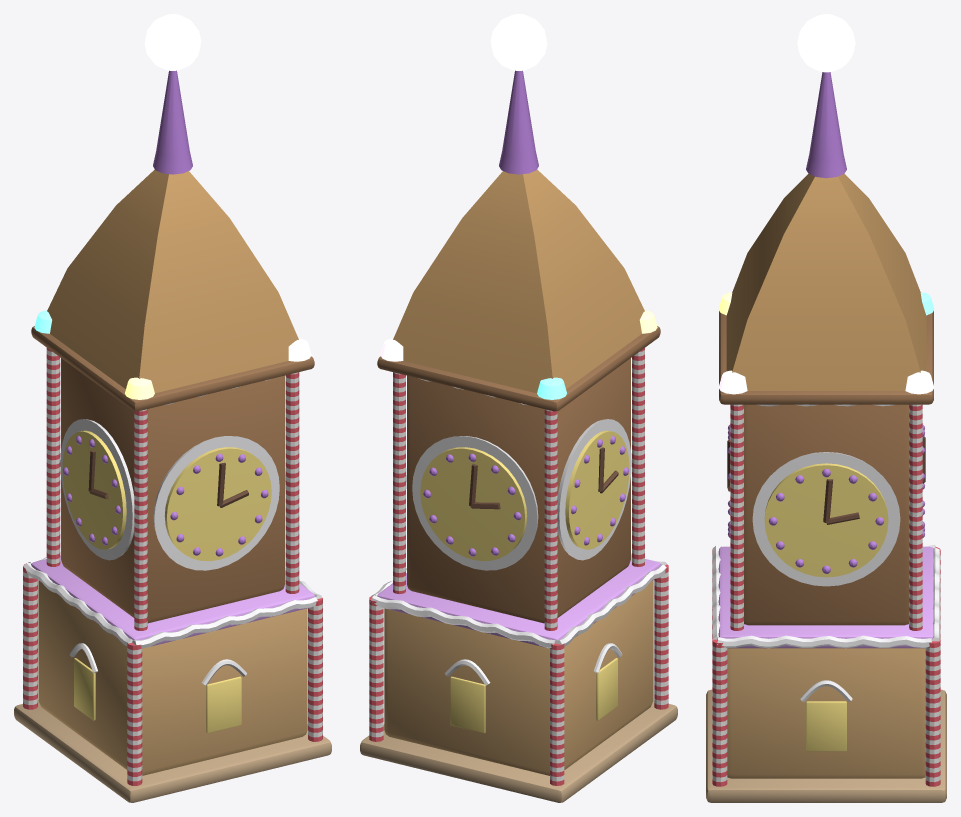
File: Landmark_ClockTower.fbx
3 views of the same model, side by side, from view 1: azimuth 30°, elevation 25°; view 2: azimuth 150°, elevation 25°; view 3: azimuth 270°, elevation 25° (orthographic). The views are drawn at different scales.
Visible parts, largest first — view 1: Landmark_ClockTower; view 2: Landmark_ClockTower; view 3: Landmark_ClockTower.
Boxes of the visible parts, box(x1,y1,x2,y2) form: Landmark_ClockTower: box(14, 14, 331, 802); Landmark_ClockTower: box(360, 14, 677, 802); Landmark_ClockTower: box(706, 14, 946, 802).
Bounding box in the file's own units: 14 × 47.3 × 14.
